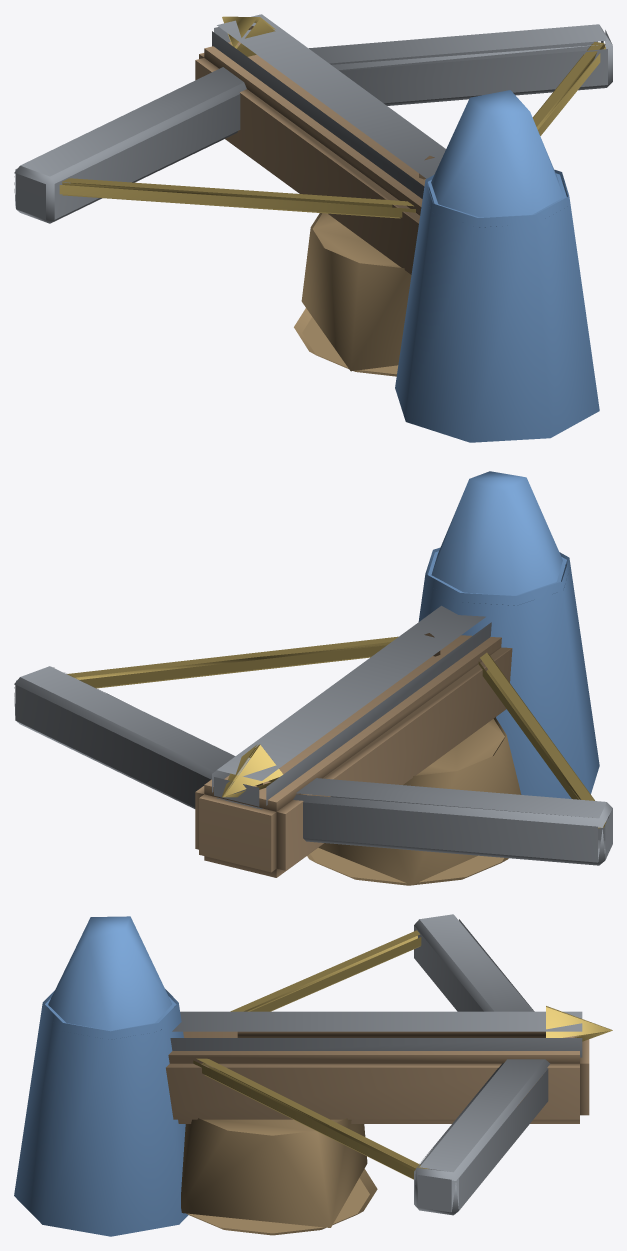
The model's file is quill_archer_turret_lod1.glb.
The picture shows the model from 3 angles, top to bottom: view 1: azimuth 30°, elevation 25°; view 2: azimuth 150°, elevation 25°; view 3: azimuth 270°, elevation 25°; orthographic projection. The views are drawn at different scales.
Parts seen in each view (by area): view 1: quill_archer_turret.001; view 2: quill_archer_turret.001; view 3: quill_archer_turret.001.
Boxes of the visible parts, box(x1,y1,x2,y2) form: quill_archer_turret.001: box(14, 14, 612, 442); quill_archer_turret.001: box(14, 471, 612, 885); quill_archer_turret.001: box(14, 914, 612, 1236).
Bounding box in the file's own units: 1.3 × 0.6324 × 1.26.
